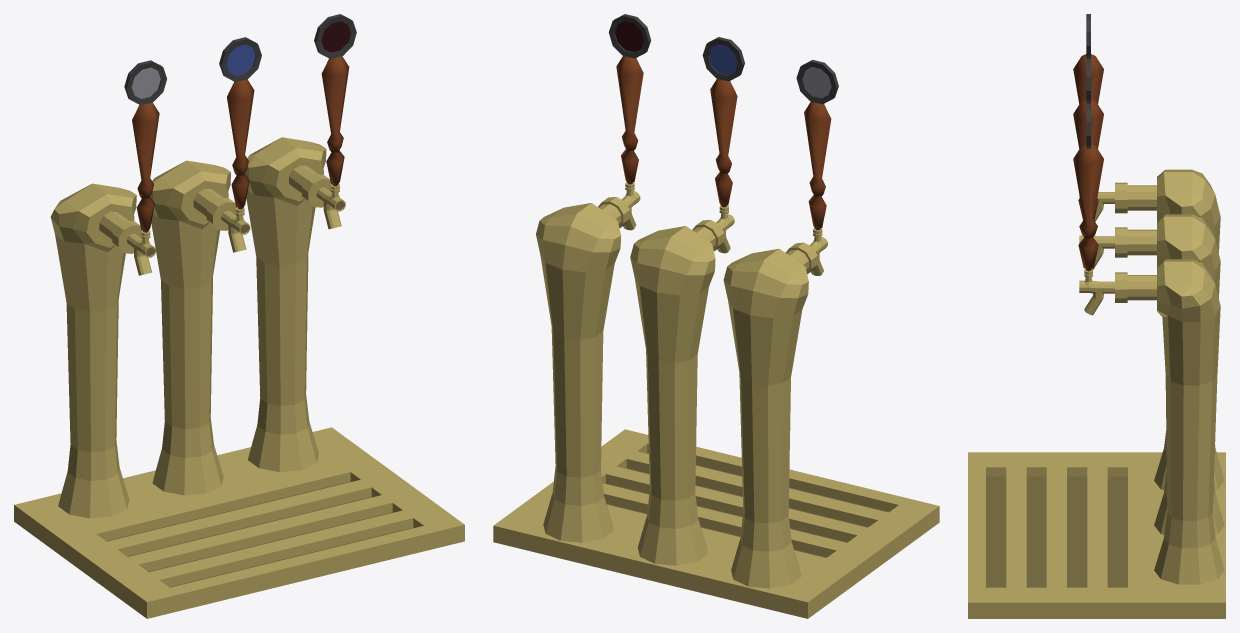
Rendered from Bar-BeerTap-x3.fbx.
3 views of the same model, side by side, from view 1: azimuth 30°, elevation 25°; view 2: azimuth 150°, elevation 25°; view 3: azimuth 270°, elevation 25° (orthographic). The views are drawn at different scales.
Parts seen in each view (by area): view 1: BeerTap_x3, BeerHandle_Red, BeerHandle_Blue, BeerHandle_White; view 2: BeerTap_x3, BeerHandle_Red, BeerHandle_White, BeerHandle_Blue; view 3: BeerTap_x3, BeerHandle_Red, BeerHandle_Blue, BeerHandle_White.
Boxes of the visible parts, <box> form: BeerTap_x3: <box>14,137,464,618</box>; BeerHandle_Red: <box>314,14,356,186</box>; BeerHandle_Blue: <box>219,37,261,209</box>; BeerHandle_White: <box>124,60,166,232</box>; BeerTap_x3: <box>493,182,939,618</box>; BeerHandle_Red: <box>608,14,651,184</box>; BeerHandle_White: <box>796,60,838,230</box>; BeerHandle_Blue: <box>702,37,744,207</box>; BeerTap_x3: <box>968,169,1225,618</box>; BeerHandle_Red: <box>1073,103,1103,271</box>; BeerHandle_Blue: <box>1073,59,1103,220</box>; BeerHandle_White: <box>1073,14,1103,103</box>.
Size of the model in its own units: 0.4 by 0.5964 by 0.29.
